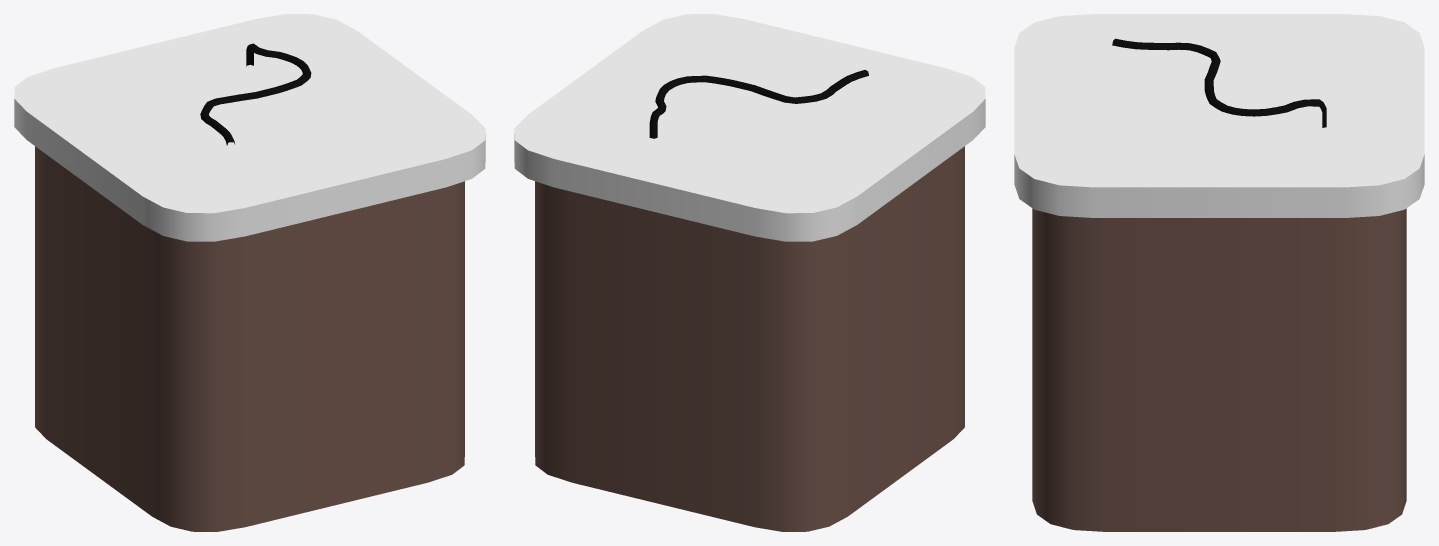
File: Meta_Game_Tattoo_Machine_Upgrade_Station.fbx
3 renders of one model, left to right at view 1: azimuth 30°, elevation 25°; view 2: azimuth 150°, elevation 25°; view 3: azimuth 270°, elevation 25°, orthographic. The views are drawn at different scales.
Visible parts, largest first — view 1: Base Station, Wire; view 2: Base Station, Wire; view 3: Base Station, Wire.
Boxes of the visible parts, bbox=[...] form: Base Station: bbox=[14, 14, 485, 531]; Wire: bbox=[200, 43, 311, 145]; Base Station: bbox=[514, 14, 985, 531]; Wire: bbox=[649, 70, 868, 138]; Base Station: bbox=[1014, 14, 1424, 531]; Wire: bbox=[1112, 38, 1326, 127].
Bounding box in the file's own units: 45.96 × 49.8 × 45.96.
